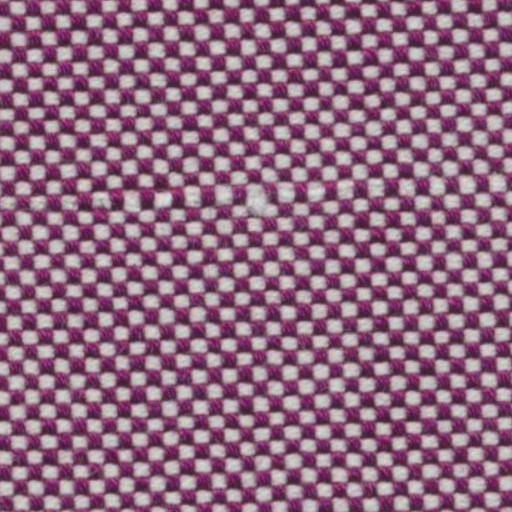DaiSha: (32, 175, 493, 218)
